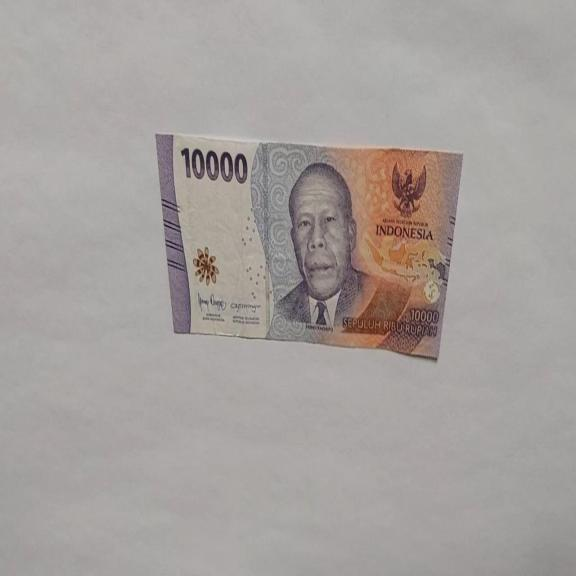Kertas: (155, 130, 463, 361), (180, 145, 248, 185)
